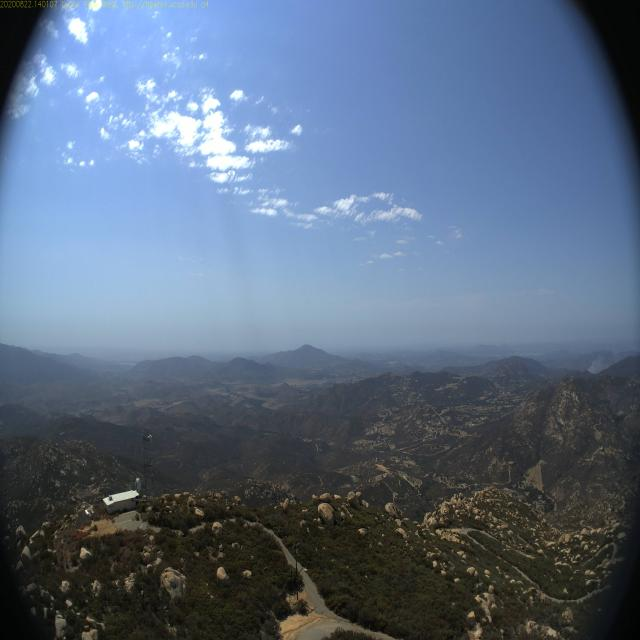smoke: (582, 340, 628, 378)
